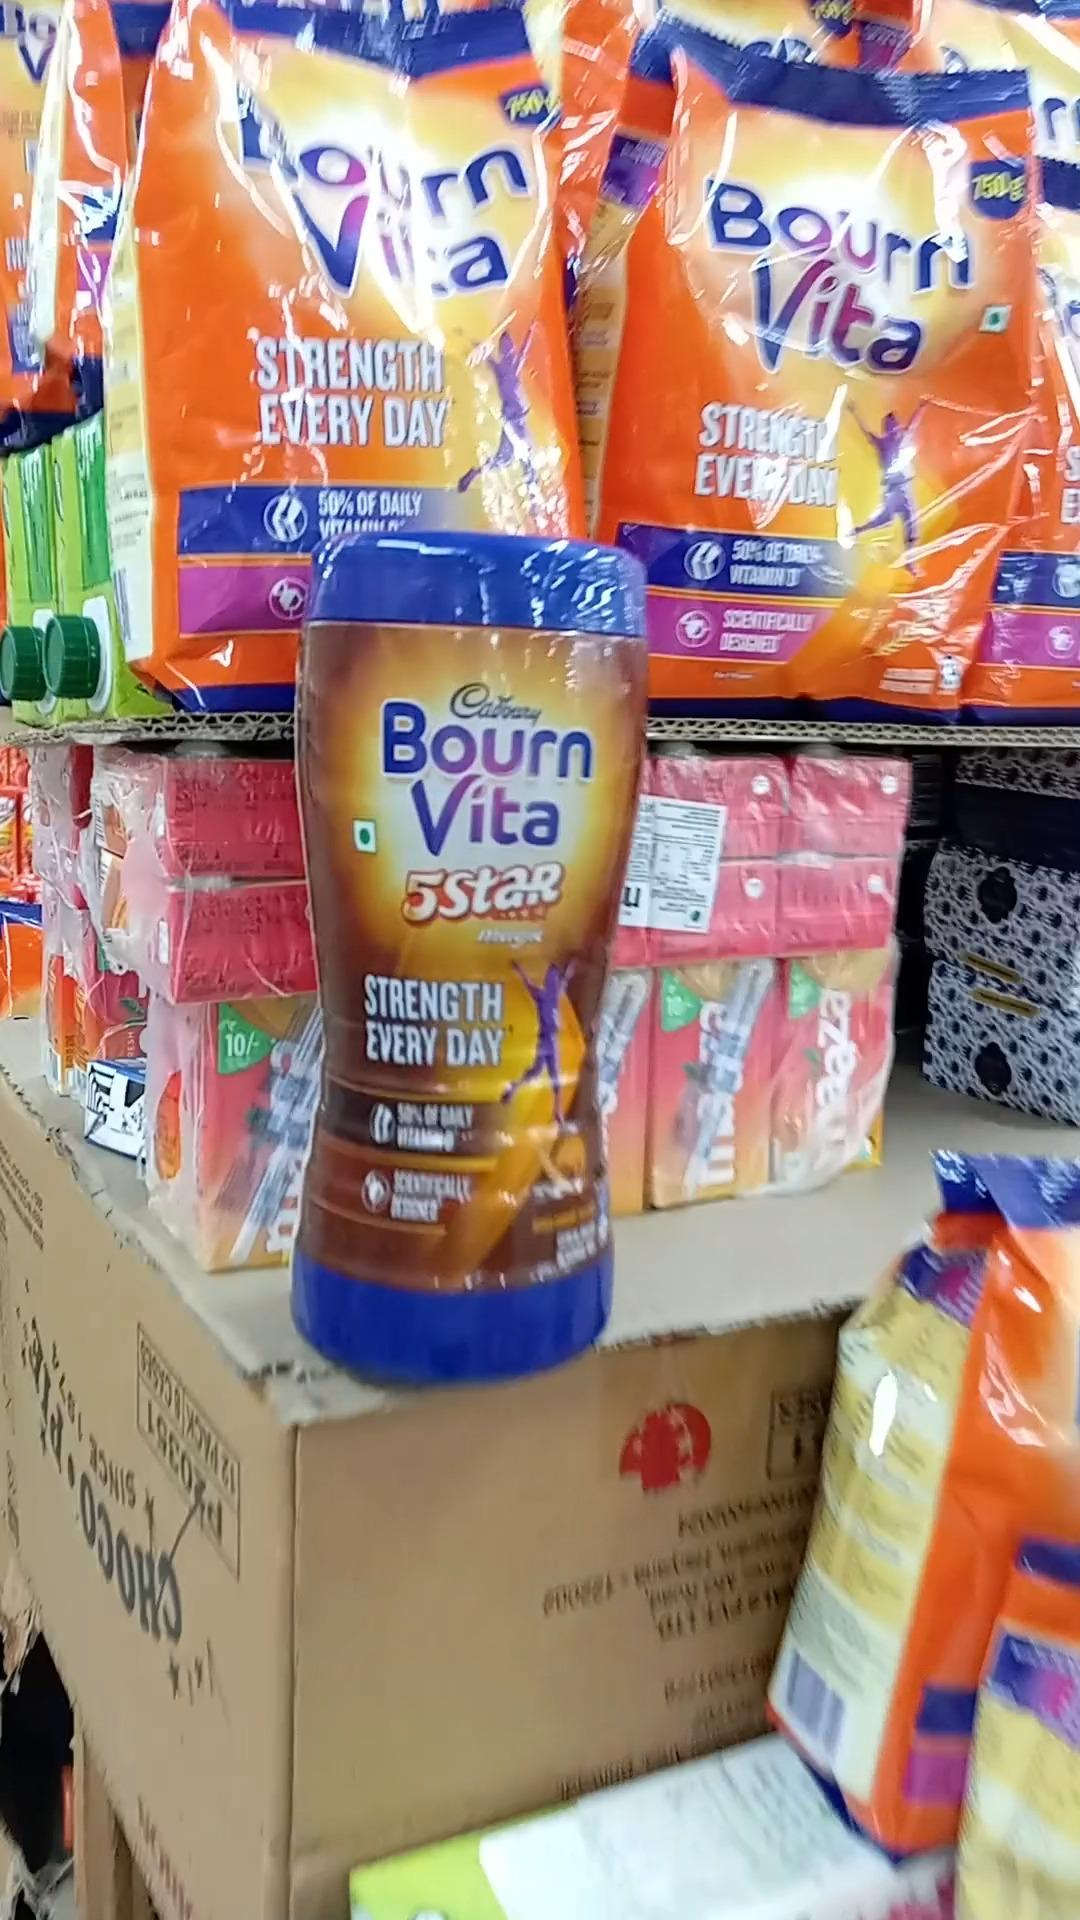BOURN_VITA_FIVE_STAR_MAGIC_500_G_JAR: (294, 531, 658, 1379)
